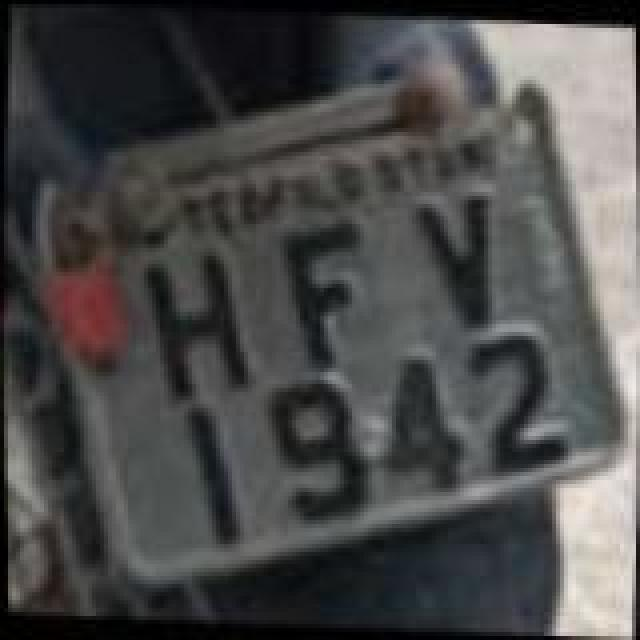1: (172, 406, 252, 546)
2: (456, 320, 576, 484)
4: (376, 352, 472, 496)
9: (256, 368, 376, 532)
F: (274, 212, 378, 376)
H: (140, 244, 264, 404)
V: (406, 190, 506, 330)
